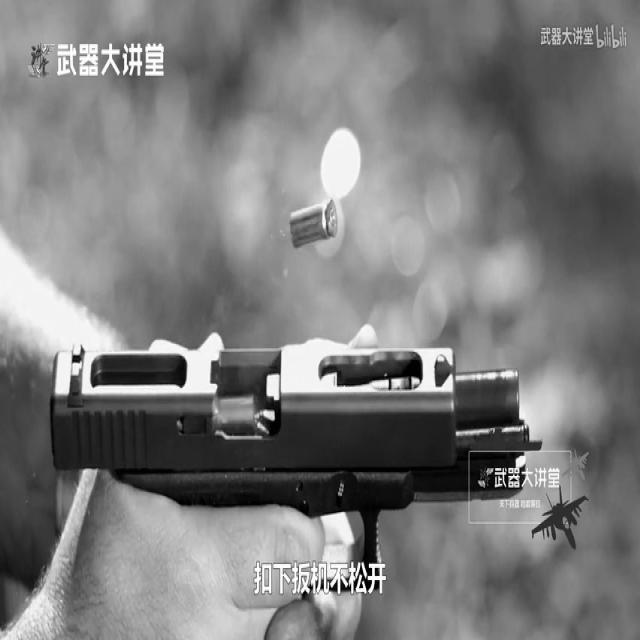Hand-Gun: (42, 128, 566, 640)
